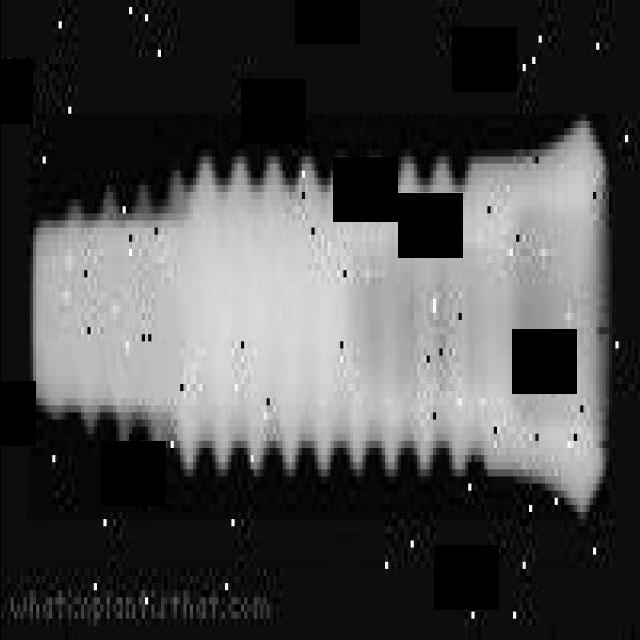Osstem Implant: (29, 114, 608, 519)
